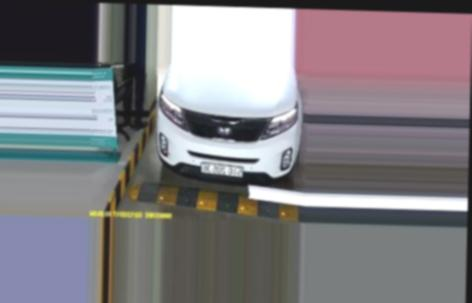License_Plate: (198, 163, 246, 177)
